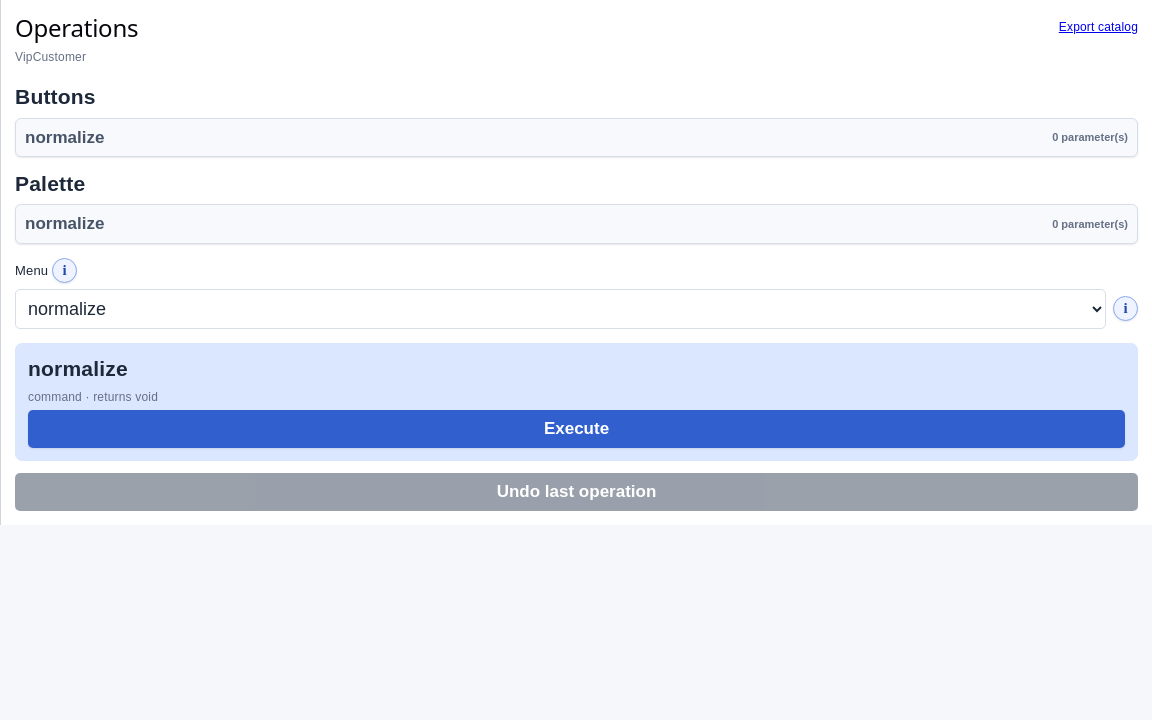
it: integrated operation runtime panel › executes a selected-element operation and enables undo
What coordinates should you click on to do the following:
click the button "normalize 0 parameter(s)" below "Buttons"
I would click on:
 (65, 137)
Its box is [15,118,1138,157].
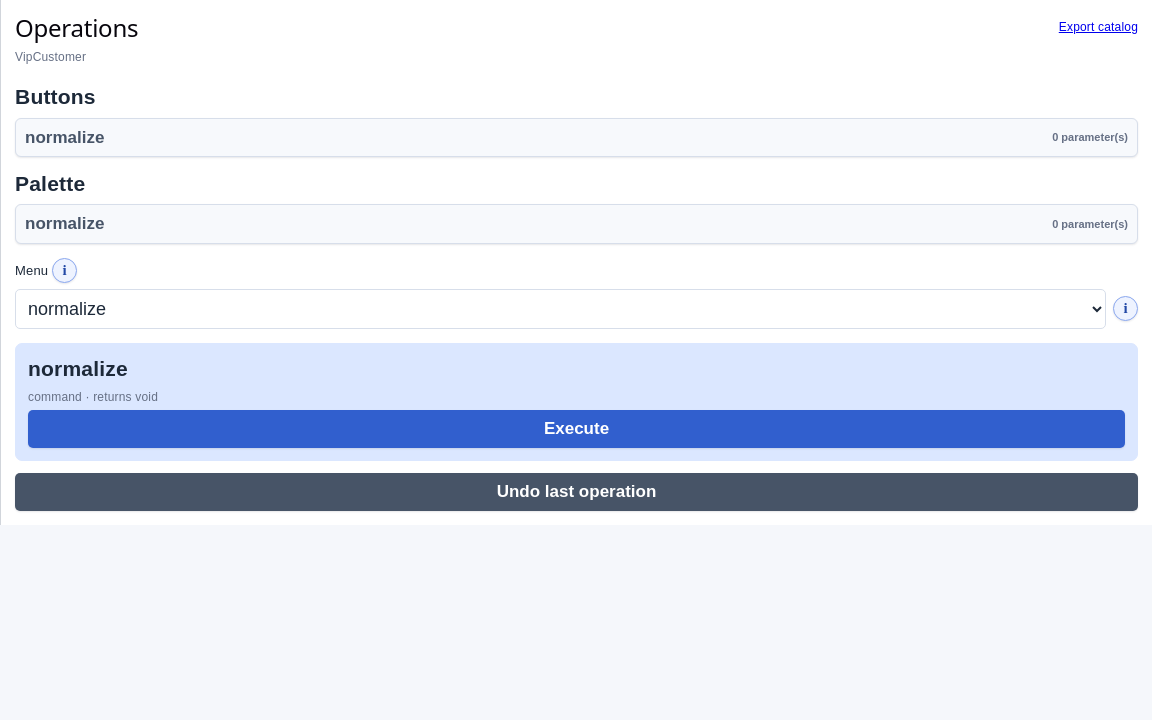
Check: the button "Undo last operation" is enabled, box [15,473,1138,511]
